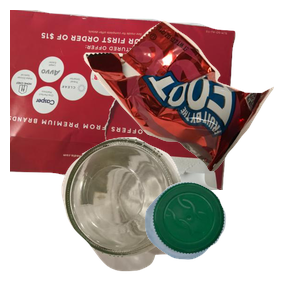glass: (59, 135, 254, 300)
paper: (10, 10, 238, 190)
plastic: (142, 179, 300, 300)
trash: (81, 18, 300, 182)
